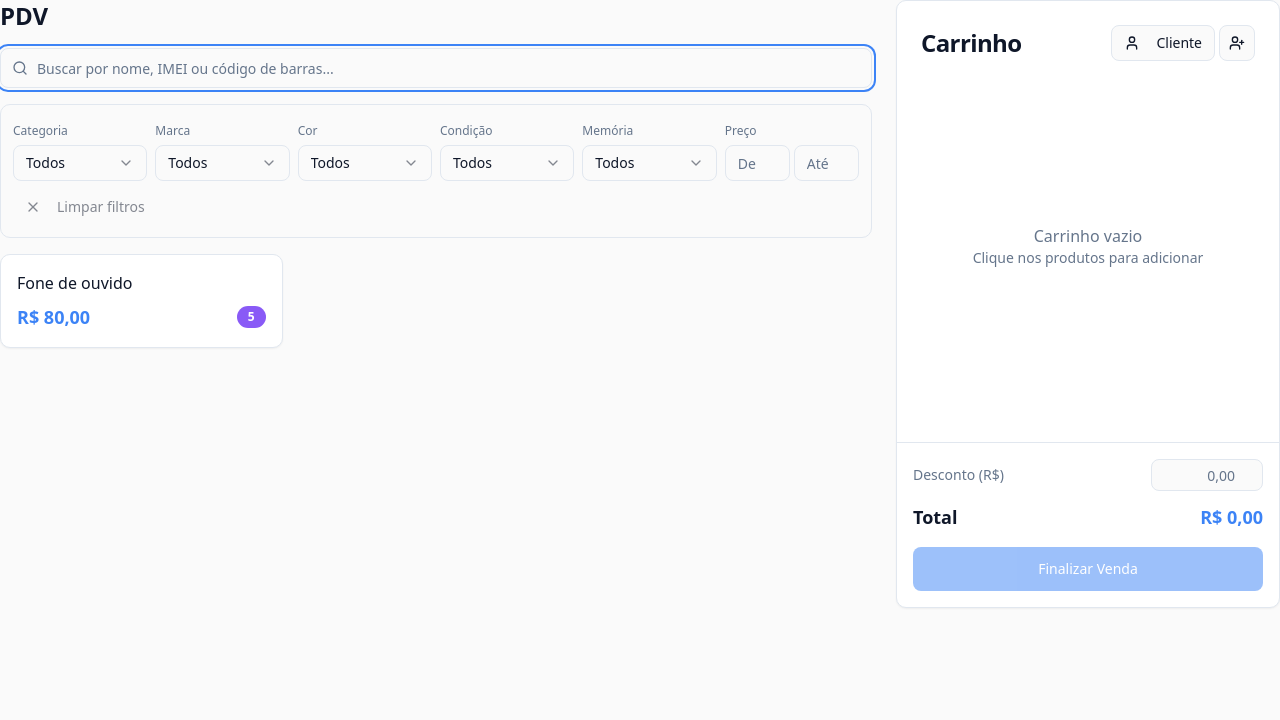
PDV: troco que não entrou pela gaveta › troco comum em dinheiro não assusta ninguém
The image size is (1280, 720).
Step 1. Click the text "Fone de ouvido" → (75, 283), box [17, 272, 132, 294]
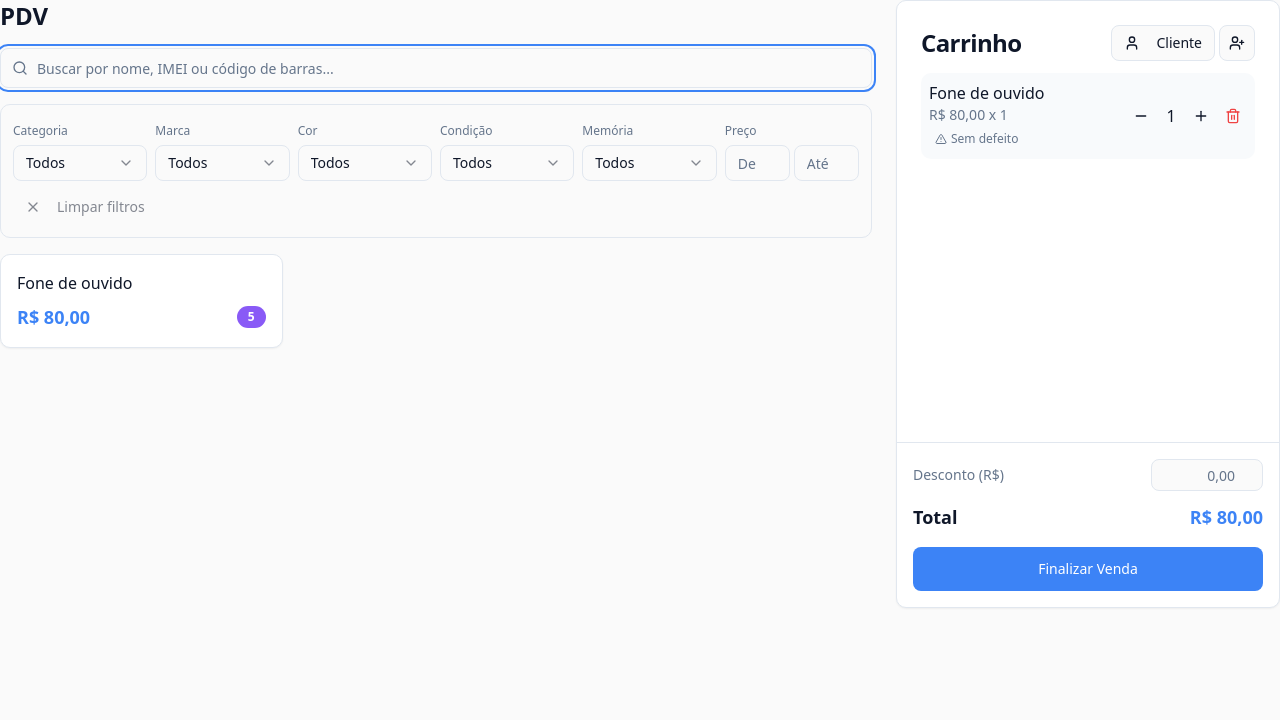
Expected: the button "Finalizar Venda" is enabled
Step 2. Click the button "Finalizar Venda" → (1088, 569), box [913, 547, 1263, 591]
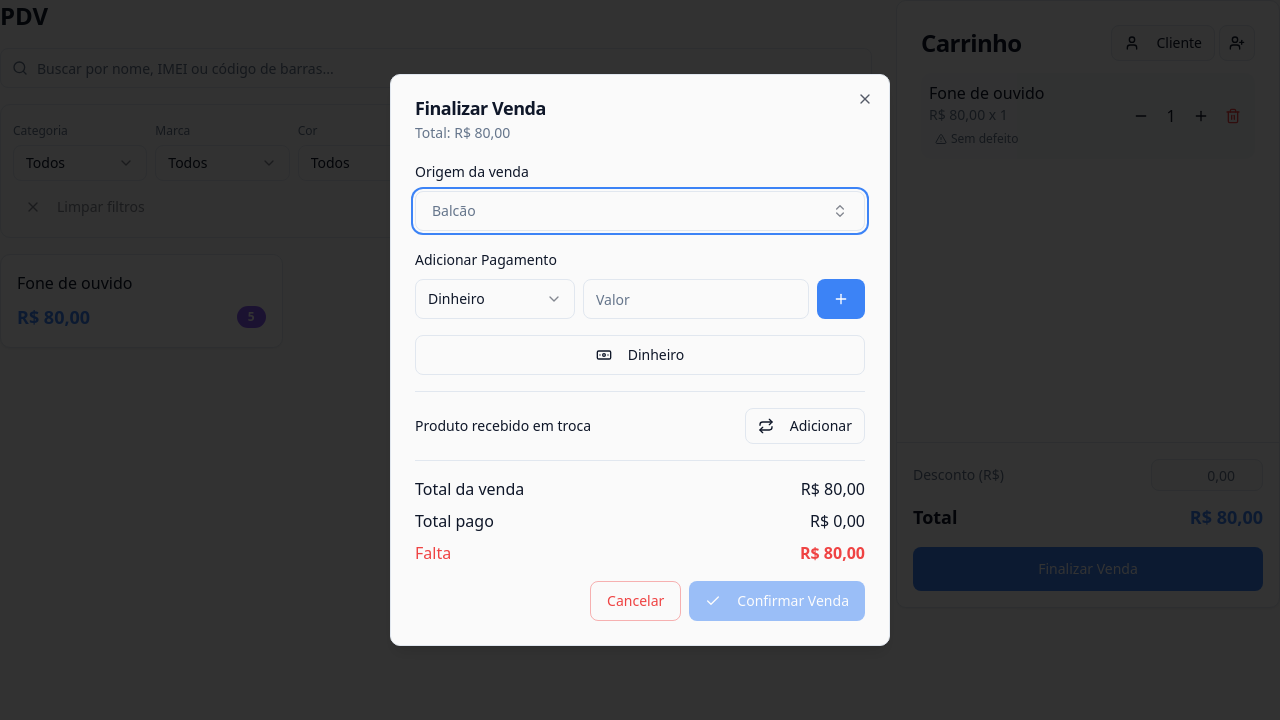
Expected: the text "Adicionar Pagamento" is shown, [415, 250, 557, 269]
Step 3. Type "100" into the number field with placeholder "Valor" → (696, 299), box [583, 279, 809, 319]
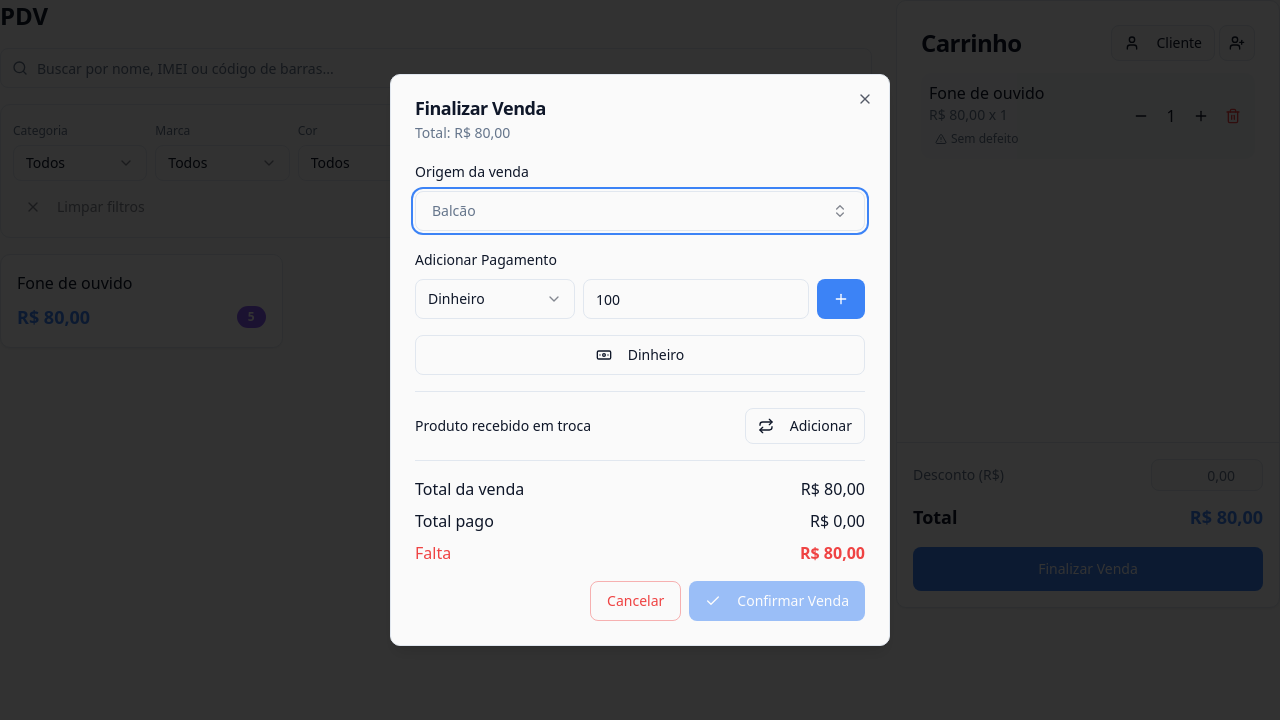
Step 4. Click the 2nd button → (841, 299), box [817, 279, 865, 319]
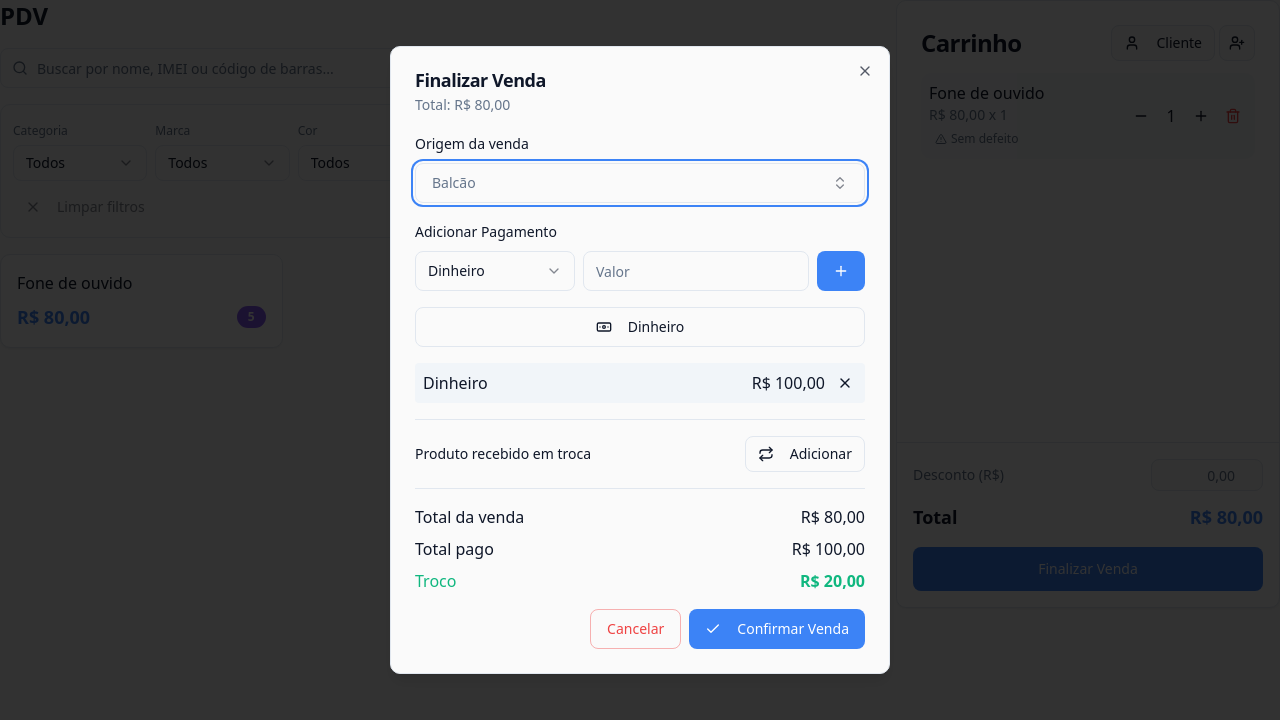
Expected: the text "Troco" is shown, [415, 569, 456, 593]
